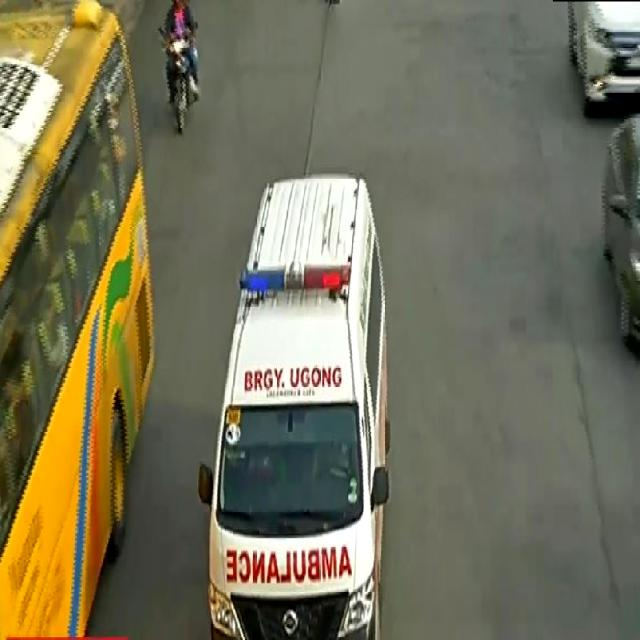emergency: (197, 174, 396, 640)
